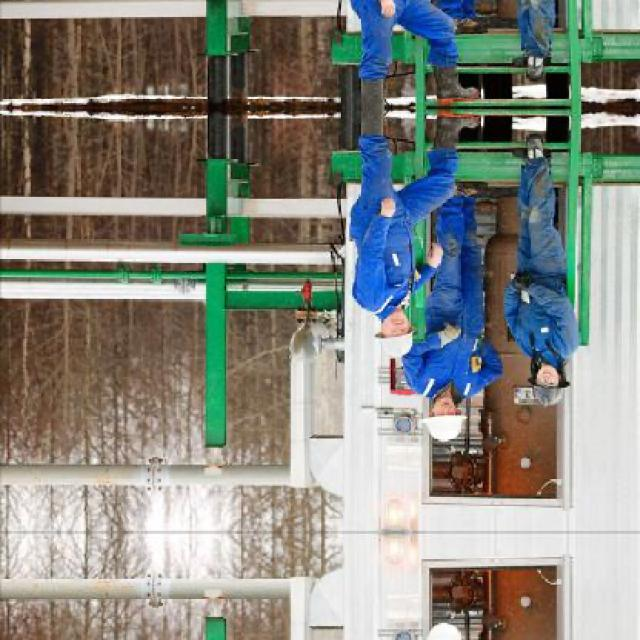con casco: (366, 279, 427, 364), (396, 394, 474, 459), (512, 333, 571, 418)
